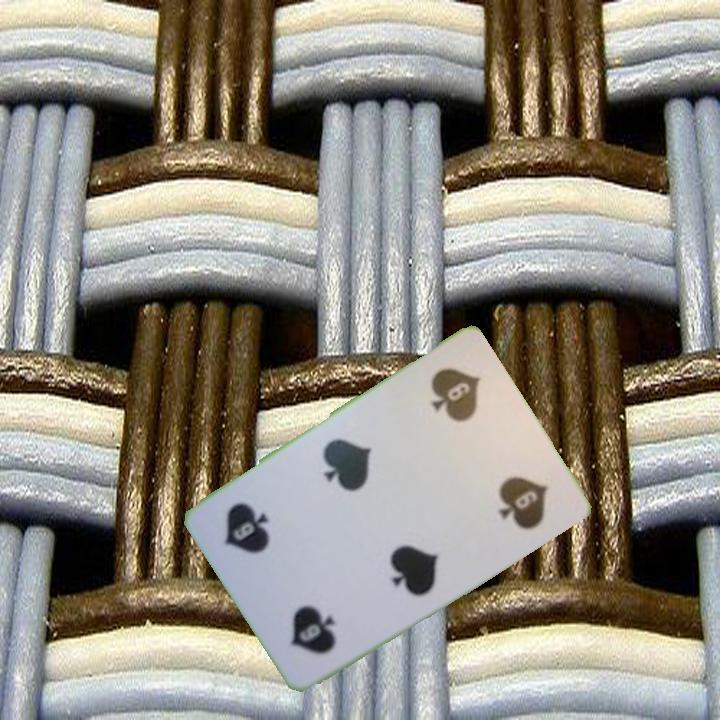s_6.png: (250, 550, 374, 679), (398, 344, 522, 472)
